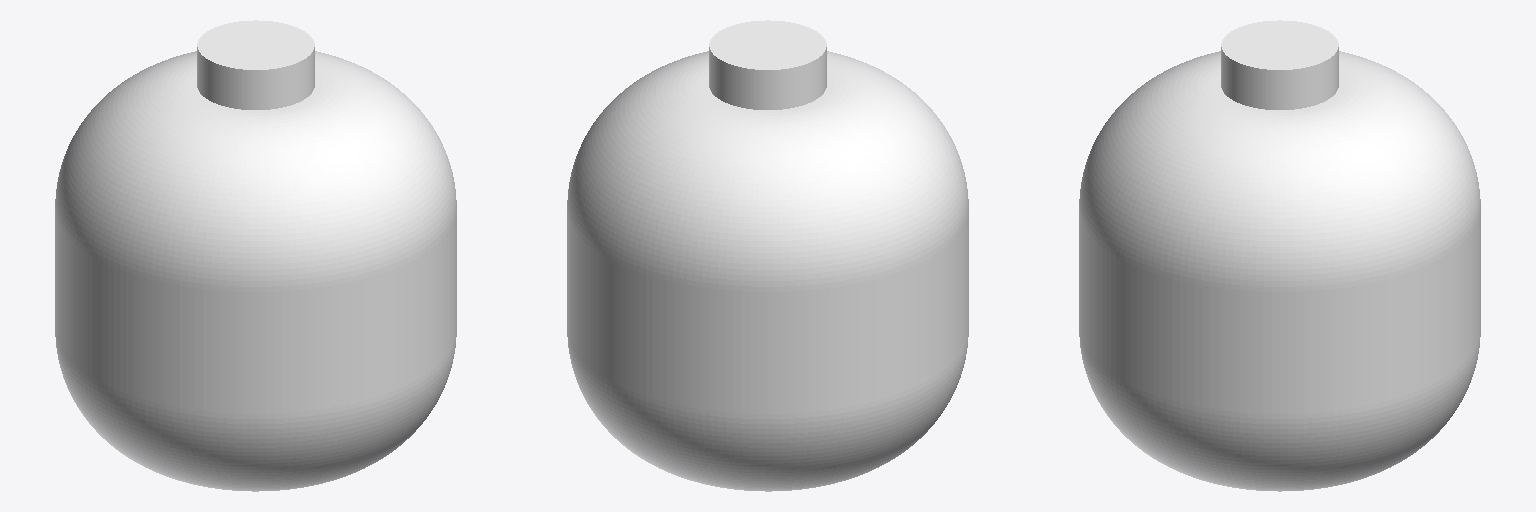
robot.urdf — milk.urdf:
<?xml version="0.0" ?>
<robot name="milk.urdf">
  <link name="baseLink">
    <contact>
      <lateral_friction value="1.0"/>
      <inertia_scaling value="3.0"/>
    </contact>
    <inertial>
      <origin rpy="0 0 0" xyz="0 0 0"/>
       <mass value=".2"/>
       <inertia ixx="0.1" ixy="0" ixz="0" iyy="0.1" iyz="0" izz="0.1"/>
    </inertial>
    <visual>
      <origin rpy="0 0 0" xyz="0 0 0"/>
      <geometry>
        <mesh filename="milk.stl" scale=".5 .5 .5"/>
      </geometry>
      <material name="white">
        <color rgba="1 1 1 1"/>
      </material>
    </visual>
    <collision>
      <origin rpy="0 0 0" xyz="0 0 0"/>
      <geometry>
    <box size="0.005 0.005 0.005"/>
      </geometry>
    </collision>
  </link>
</robot>

--- Facts derived from the render (not from the file) ---
The picture shows the robot from 3 angles, left to right: view 1: azimuth 30°, elevation 25°; view 2: azimuth 150°, elevation 25°; view 3: azimuth 270°, elevation 25°; orthographic projection.
Model milk.urdf with 1 links and 0 joints (none), rooted at baseLink, posed every joint at zero.
Visible links, largest first — view 1: baseLink; view 2: baseLink; view 3: baseLink.
Link boxes in pixels (bbox=[...]): baseLink: bbox=[55, 20, 456, 491]; baseLink: bbox=[567, 20, 968, 491]; baseLink: bbox=[1079, 20, 1480, 491].
Size in the robot's own frame: 0.1494 by 0.1494 by 0.1665 metres.
1 mesh visuals loaded from 1 distinct referenced files (1 binary STL).